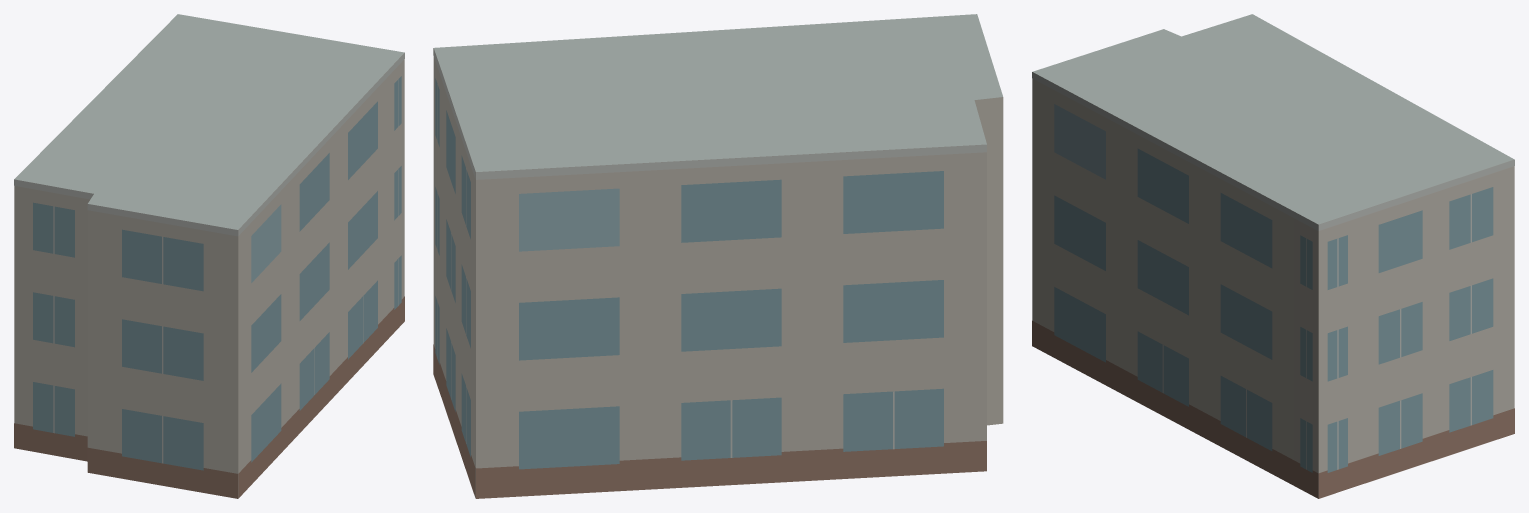
The model's file is survey-upis-32915029.glb.
3 views of the same model, side by side, from view 1: azimuth 30°, elevation 25°; view 2: azimuth 150°, elevation 25°; view 3: azimuth 270°, elevation 25° (orthographic). The views are drawn at different scales.
Visible parts, largest first — view 1: survey-upis-32915029.tmp; view 2: survey-upis-32915029.tmp; view 3: survey-upis-32915029.tmp.
Boxes of the visible parts, box(x1,y1,x2,y2) form: survey-upis-32915029.tmp: box(14, 14, 404, 498); survey-upis-32915029.tmp: box(433, 14, 1003, 498); survey-upis-32915029.tmp: box(1032, 14, 1514, 498).
Size of the model in its own units: 16.8 by 10.2 by 16.27.
